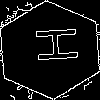H: (25, 25, 78, 65)
